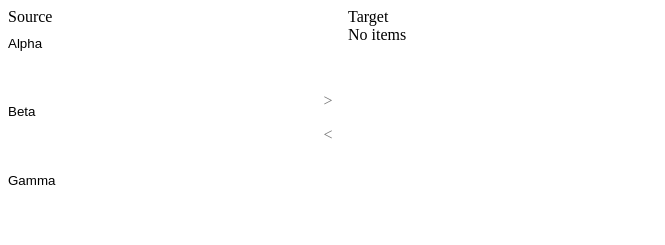
Test: LTransfer › moves selected source items to target in uncontrolled mode
Click the button "Alpha": [25, 43] box [8,26,308,60]
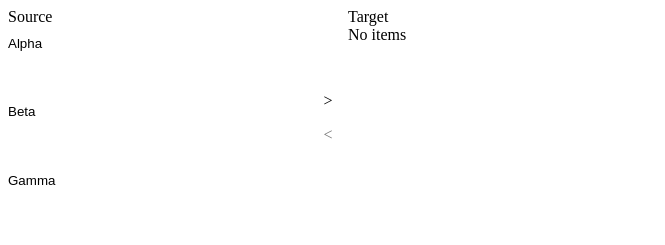
Click the button ">": [328, 101] box [308,84,348,118]
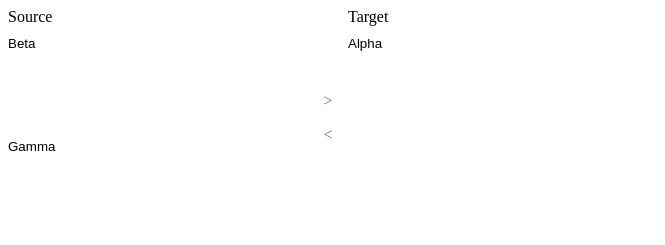
Check: the element showing "Target Alpha" is shown, box [348,8,648,228]
